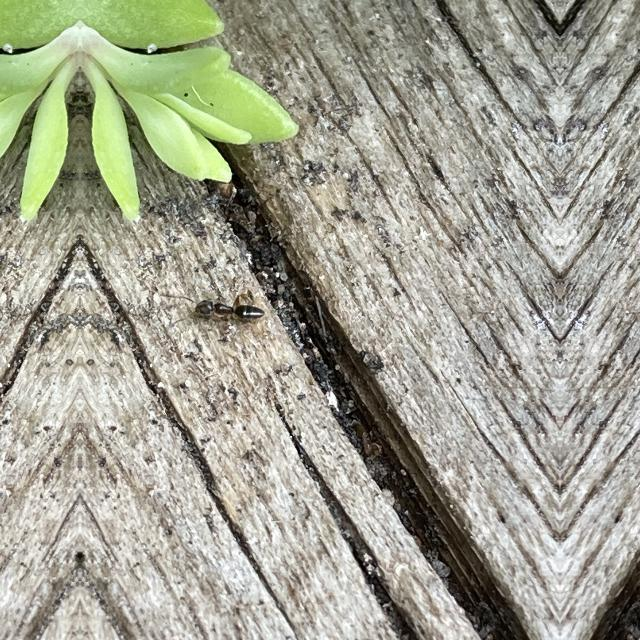Tapinoma: (187, 276, 269, 336)
